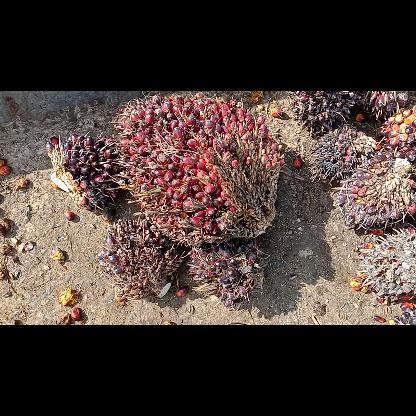TBS abnormal: (99, 216, 183, 302), (48, 134, 122, 214), (188, 245, 268, 305)
TBS masak: (116, 92, 284, 240)
